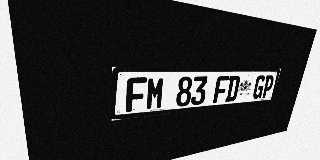3: (190, 76, 208, 105)
8: (175, 76, 194, 107)
D: (225, 76, 241, 102)
F: (126, 77, 147, 112), (213, 76, 229, 103)
G: (252, 75, 266, 99)
M: (145, 77, 165, 110)
P: (261, 75, 275, 98)
